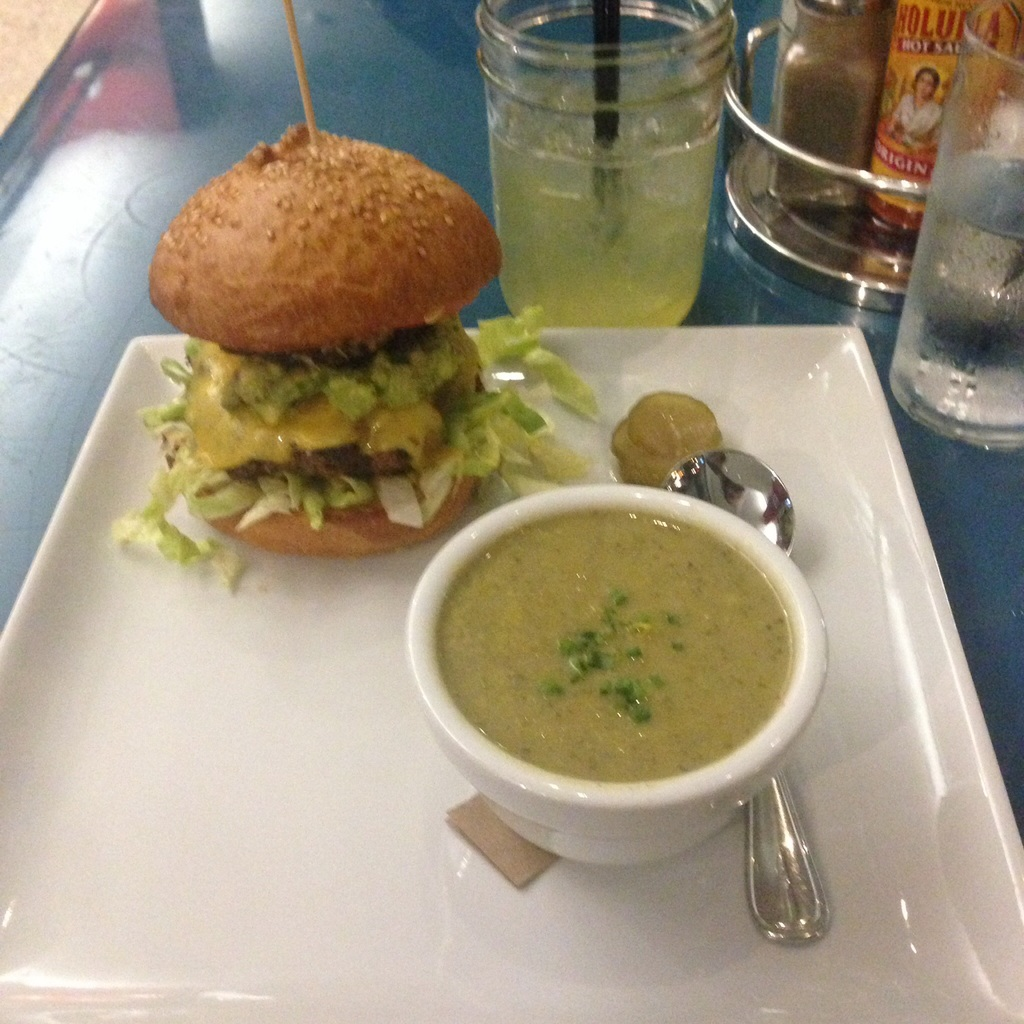Hamburger: (115, 119, 604, 588)
